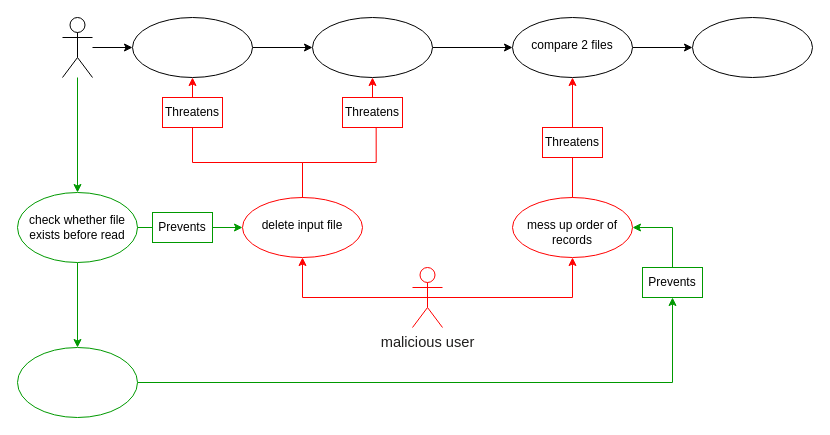
Some shapes in this 830 by 435 pixel diagram are drawn without their labels. The centre of each missing label's shape, as x and y in pixels:
"generate exception csv file" belongs at point 752,47.
"Program" belongs at point 77,47.
"read file 1" belongs at point 192,47.
"read file 2" belongs at point 372,47.
"sort records before comparing" belongs at point 77,382.
